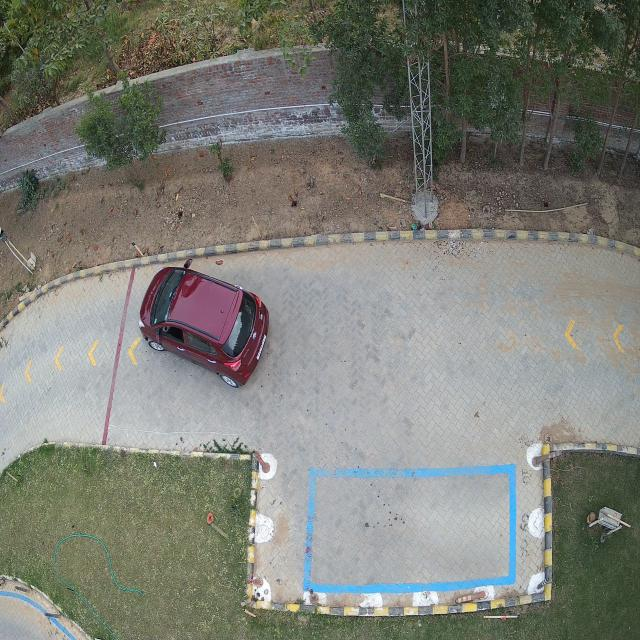car: (139, 260, 269, 387)
